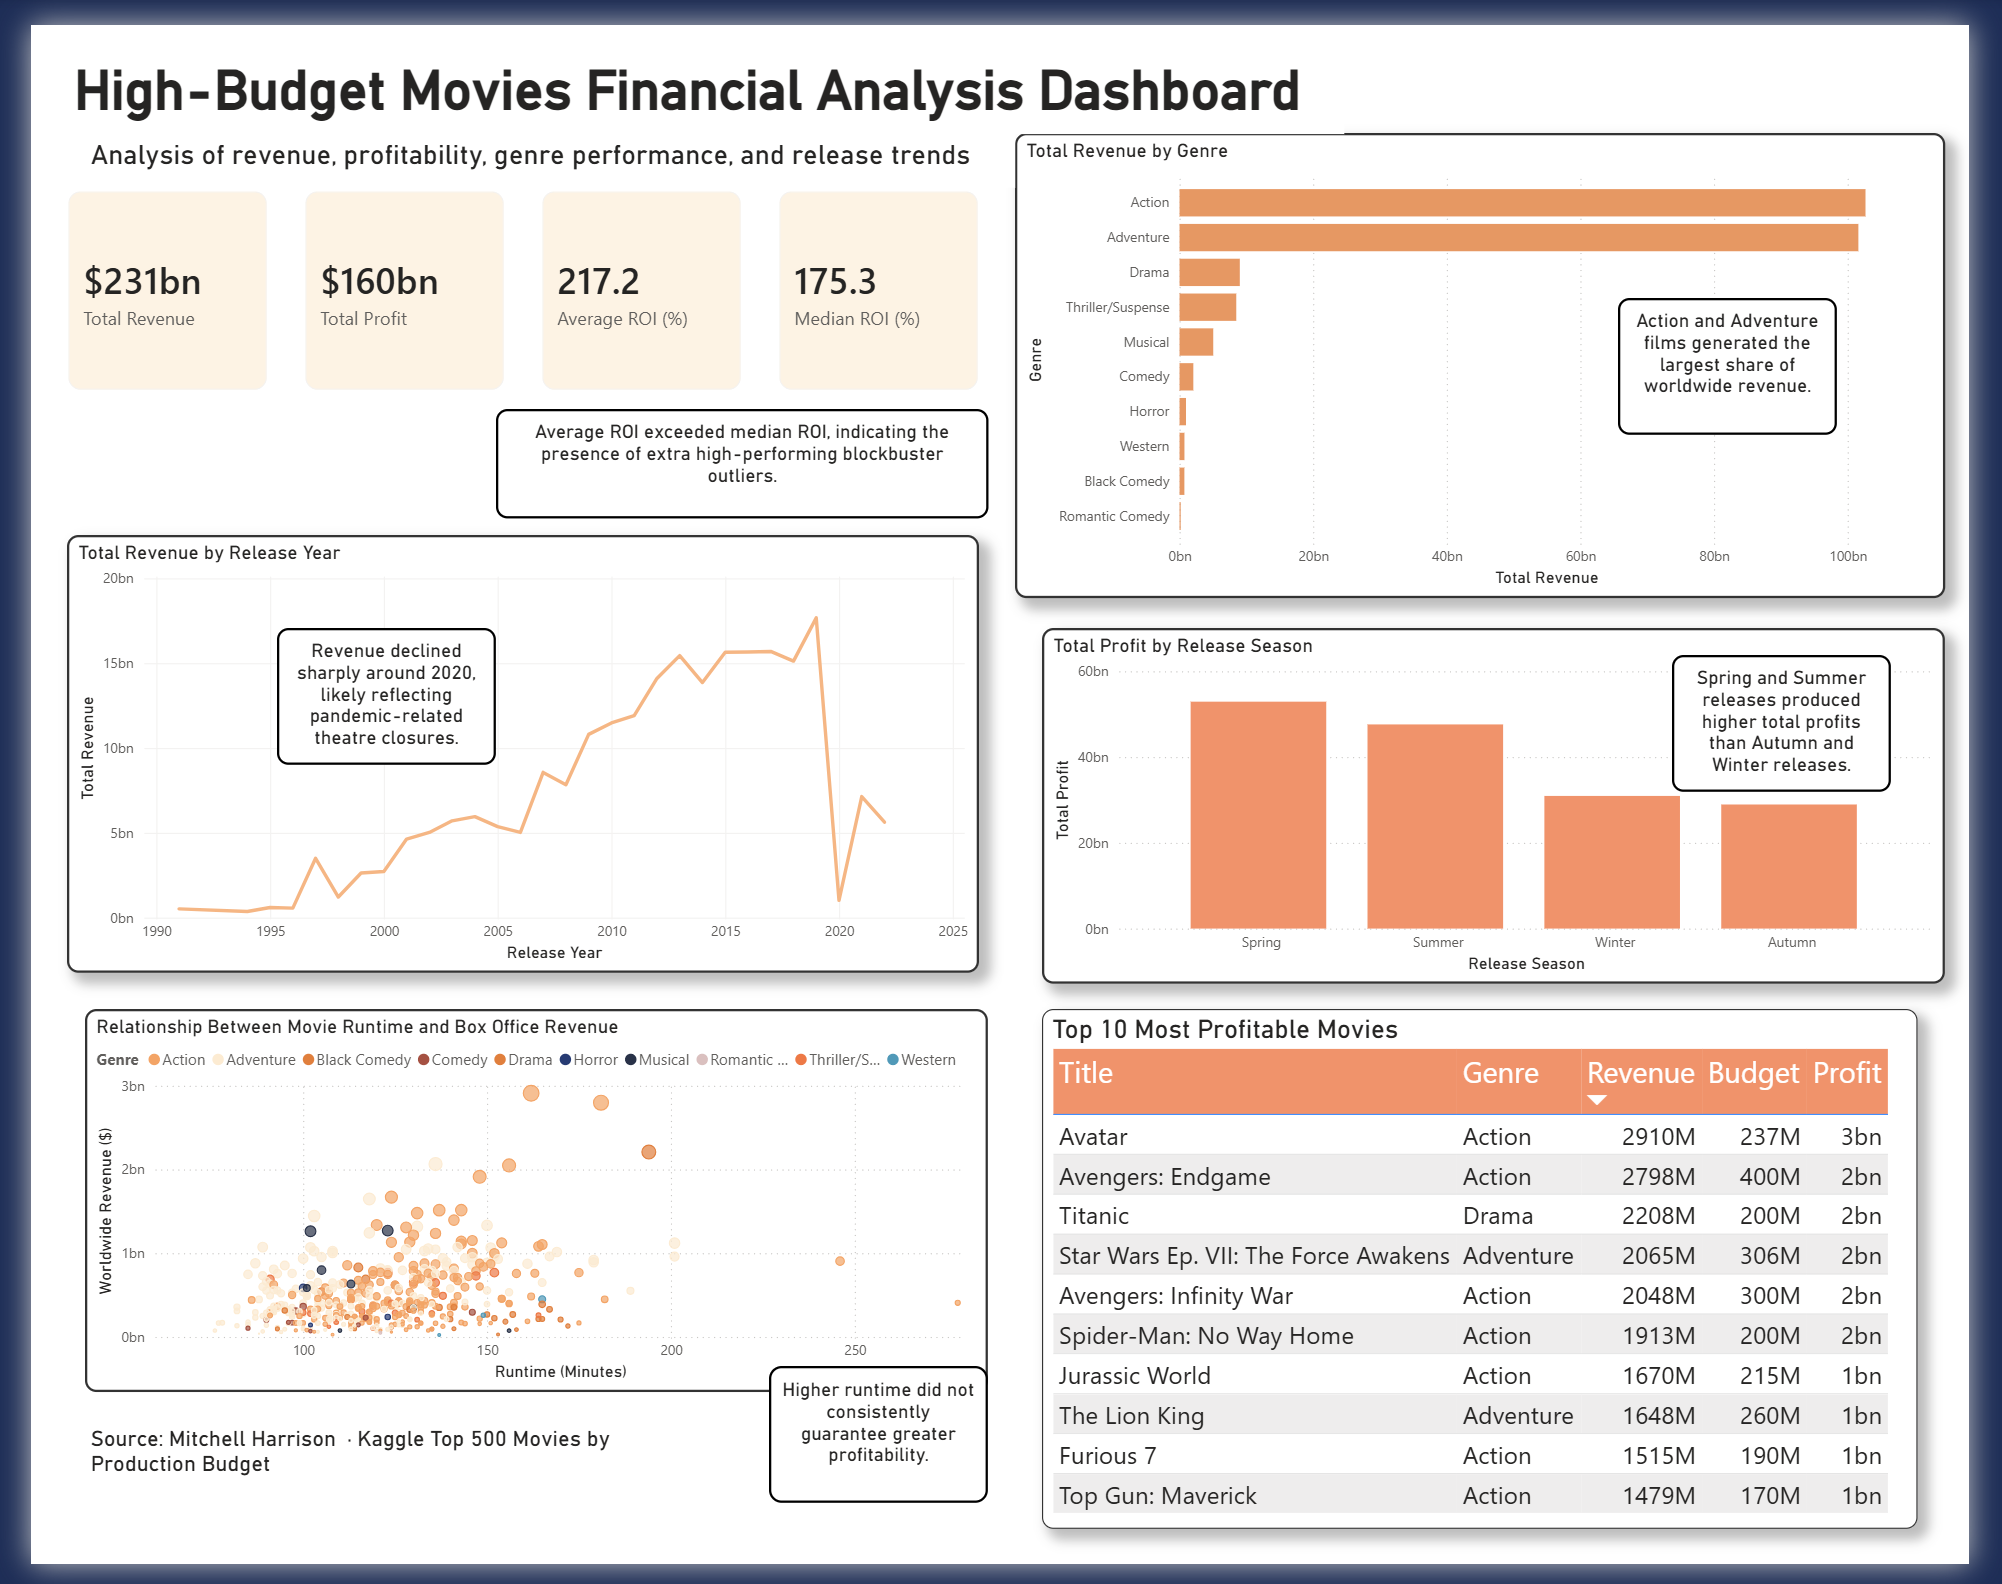

The dashboard page shown, as its layout file describes it:
{"tool":"powerbi","page":{"name":"Executive Overview","canvas":[1700,1350],"ordinal":0},"visuals":[{"type":"cardVisual","fields":{"Data":["movies_sql_cleaned.Total Revenue"]},"box":[16,128,208,208],"z":0},{"type":"cardVisual","fields":{"Data":["movies_sql_cleaned.Total Profit"]},"box":[224,128,208,208],"z":1000},{"type":"cardVisual","fields":{"Data":["movies_sql_cleaned.Average ROI"]},"box":[432,128,208,208],"z":2000},{"type":"cardVisual","fields":{"Data":["movies_sql_cleaned.Median ROI"]},"box":[640,128,208,208],"z":3000},{"type":"clusteredBarChart","fields":{"Category":["movies_sql_cleaned.genre"],"Y":["movies_sql_cleaned.Total Revenue"]},"box":[864,96,816,408],"z":4000},{"type":"clusteredColumnChart","title":"Total Profit by Release Season","fields":{"Category":["movies_sql_cleaned.release_season"],"Y":["movies_sql_cleaned.Total Profit"]},"box":[888,528,792,312],"z":5000},{"type":"lineChart","title":"Total Revenue by Release Year","fields":{"Category":["movies_sql_cleaned.release_year"],"Y":["movies_sql_cleaned.Total Revenue"]},"box":[32,448,800,384],"z":6000},{"type":"textbox","box":[0,24,1152,72],"z":7000},{"type":"textbox","box":[48,96,816,48],"z":8000},{"type":"textbox","box":[1392,240,192,120],"z":9000},{"type":"textbox","box":[1440,552,192,120],"z":10000},{"type":"textbox","box":[216,528,192,120],"z":11000},{"type":"tableEx","title":"Top 10 Most Profitable Movies","fields":{"Values":["movies_sql_cleaned.title","movies_sql_cleaned.genre","Sum(movies_sql_cleaned.worldwide_revenue)","Sum(movies_sql_cleaned.production_cost)","Sum(movies_sql_cleaned.profit)"]},"box":[888,864,768,456],"z":12000},{"type":"scatterChart","title":"Relationship Between Movie Runtime and Box Office Revenue","fields":{"X":["Sum(movies_sql_cleaned.runtime)"],"Y":["Sum(movies_sql_cleaned.Worldwide Revenue)"],"Size":["Sum(movies_sql_cleaned.profit)"],"Series":["movies_sql_cleaned.Genre"],"Category":["movies_sql_cleaned.Title"]},"box":[48,864,792,336],"z":13000},{"type":"textbox","box":[408,336,432,96],"z":14000},{"type":"textbox","box":[648,1176,192,120],"z":15000},{"type":"textbox","box":[48,1224,528,72],"z":16000}]}

Visuals, with their boxes in screenshot pixels (x1, y1, x2, y2), scaled from the page's 1700x1350 canvas onto the 2002x1584 screenshot:
cardVisual - movies_sql_cleaned.Total Revenue: rect(19, 150, 264, 394)
cardVisual - movies_sql_cleaned.Total Profit: rect(264, 150, 509, 394)
cardVisual - movies_sql_cleaned.Average ROI: rect(509, 150, 754, 394)
cardVisual - movies_sql_cleaned.Median ROI: rect(754, 150, 999, 394)
clusteredBarChart - movies_sql_cleaned.genre x movies_sql_cleaned.Total Revenue: rect(1017, 113, 1978, 591)
"Total Profit by Release Season" clusteredColumnChart: rect(1046, 620, 1978, 986)
"Total Revenue by Release Year" lineChart: rect(38, 526, 980, 976)
textbox: rect(0, 28, 1357, 113)
textbox: rect(57, 113, 1017, 169)
textbox: rect(1639, 282, 1865, 422)
textbox: rect(1696, 648, 1922, 788)
textbox: rect(254, 620, 480, 760)
"Top 10 Most Profitable Movies" tableEx: rect(1046, 1014, 1950, 1549)
"Relationship Between Movie Runtime and Box Office Revenue" scatterChart: rect(57, 1014, 989, 1408)
textbox: rect(480, 394, 989, 507)
textbox: rect(763, 1380, 989, 1521)
textbox: rect(57, 1436, 678, 1521)
